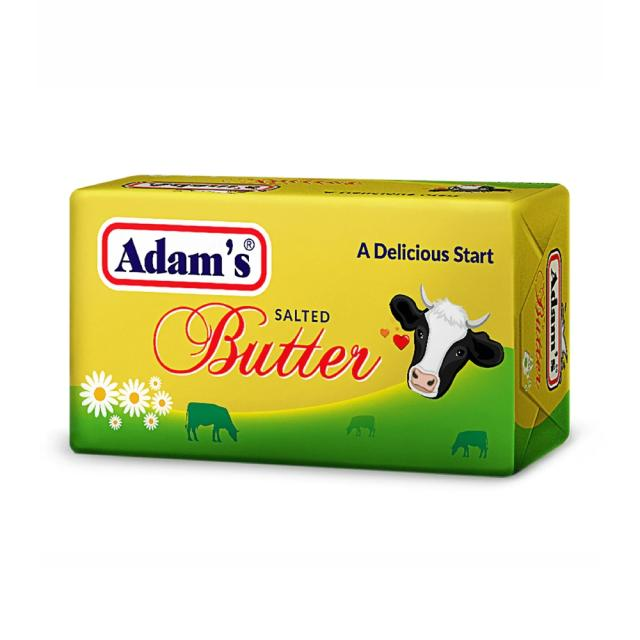butter: (68, 174, 571, 477)
